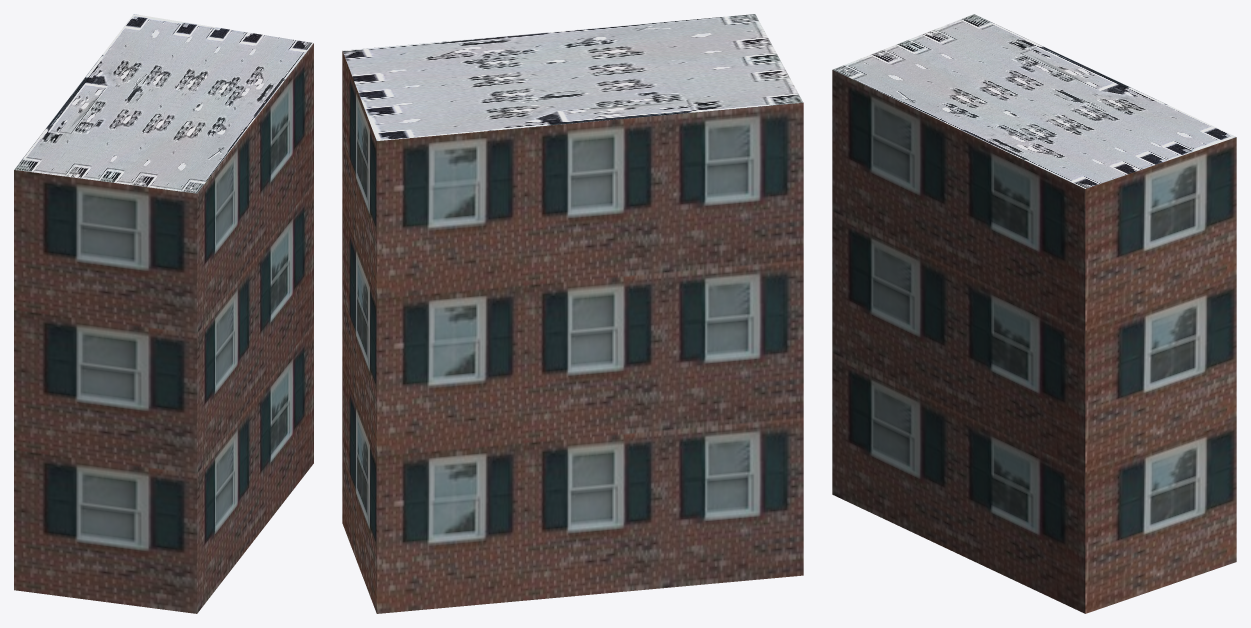
Rendered from ResTex__3080.fbx.
3 renders of one model, left to right at view 1: azimuth 30°, elevation 25°; view 2: azimuth 150°, elevation 25°; view 3: azimuth 270°, elevation 25°, orthographic. The views are drawn at different scales.
Parts seen in each view (by area): view 1: CityEngineMaterial_14_m, CityEngineMaterial_m; view 2: CityEngineMaterial_14_m, CityEngineMaterial_m; view 3: CityEngineMaterial_14_m, CityEngineMaterial_m.
Boxes of the visible parts, x1=… form: CityEngineMaterial_14_m: x1=14, y1=43, x2=313, y2=613; CityEngineMaterial_m: x1=14, y1=14, x2=313, y2=193; CityEngineMaterial_14_m: x1=342, y1=51, x2=803, y2=613; CityEngineMaterial_m: x1=342, y1=14, x2=803, y2=140; CityEngineMaterial_14_m: x1=832, y1=70, x2=1236, y2=613; CityEngineMaterial_m: x1=833, y1=14, x2=1235, y2=188.
Size of the model in its own units: 7.95 by 9 by 7.76.
Materials: 2 (2 with a texture image).
